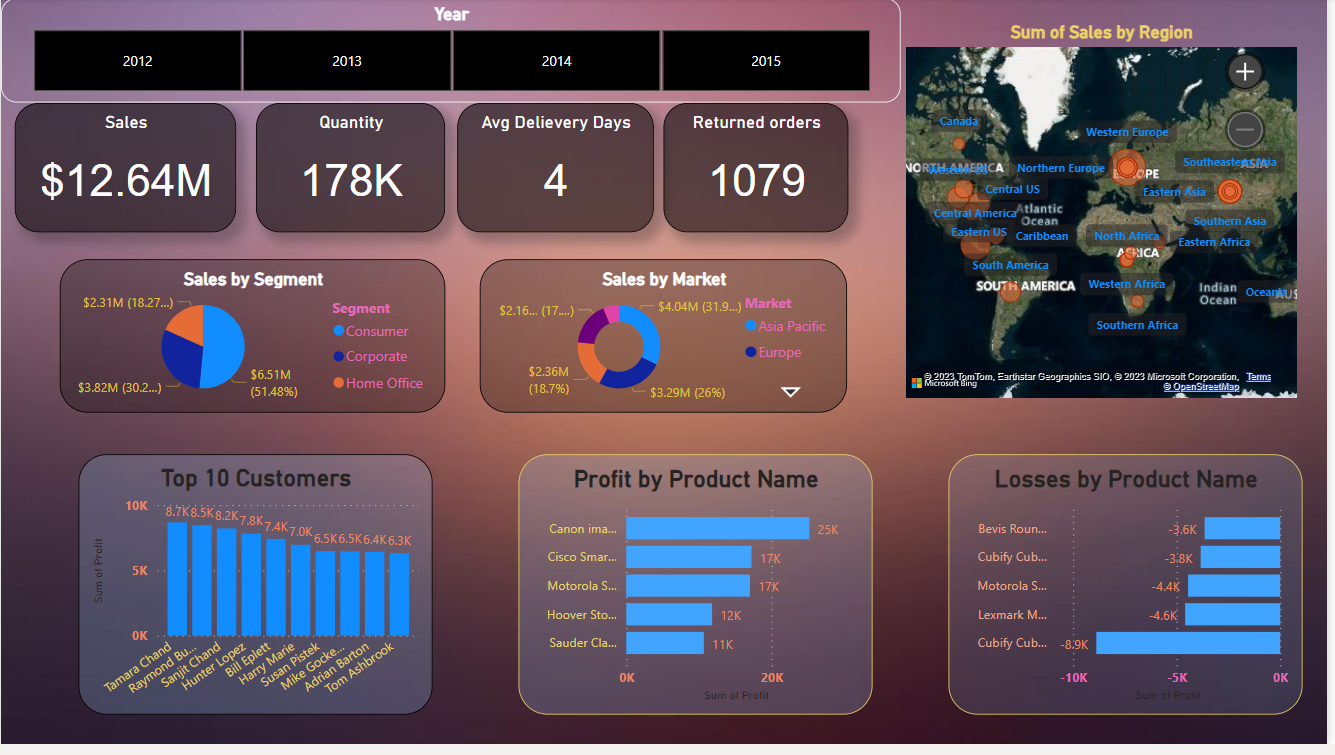

The page's visual inventory and layout, read from the dashboard file:
{"tool":"powerbi","page":{"name":"Page 1","canvas":[1280,720],"ordinal":0},"visuals":[{"type":"card","title":"Sales","fields":{"Values":["Orders.Sales"]},"box":[13.4,100.8,213.6,125],"z":0},{"type":"card","title":"Avg Delievery Days","fields":{"Values":["Orders.Delievery Days"]},"box":[440.7,100.8,189.5,125],"z":1000},{"type":"card","title":"Quantity","fields":{"Values":["Orders.Quantity"]},"box":[245.9,100.8,182.7,125],"z":2000},{"type":"slicer","title":"Year","fields":{"Values":["Orders.year"]},"box":[0,0,868,100.8],"z":3000},{"type":"card","title":"Returned orders","fields":{"Values":["Returns.Returned orders"]},"box":[639.6,100.8,178.7,125],"z":4000},{"type":"map","fields":{"Size":["Orders.Sales"],"Category":["Orders.Region"]},"box":[868,22.8,387,368.2],"z":5000},{"type":"clusteredBarChart","title":"Profit by Product Name","fields":{"Y":["Orders.Profit"],"Category":["Orders.Product Name"]},"box":[499.9,440.7,341.3,251.3],"z":6000},{"type":"clusteredBarChart","title":"Losses by Product Name","fields":{"Y":["Orders.Profit"],"Category":["Orders.Product Name"]},"box":[913.7,440.7,341.3,251.3],"z":7000},{"type":"pieChart","title":" Sales by Segment","fields":{"Category":["Orders.Segment"],"Y":["Orders.Sales"]},"box":[56.4,252.6,372.2,147.8],"z":8000},{"type":"donutChart","title":"Sales by Market","fields":{"Y":["Orders.Sales"],"Category":["Orders.Market"]},"box":[462.2,252.6,354.7,147.8],"z":9000},{"type":"columnChart","title":"Top 10 Customers ","fields":{"Category":["Orders.Customer Name"],"Y":["Orders.Profit"]},"box":[75.2,440.7,341.3,251.3],"z":10000}]}

Visuals, with their boxes in screenshot pixels (x1, y1, x2, y2), scaled from the page's 1280x720 canvas onto the 1335x755 screenshot:
"Sales" card: left=14, top=106, right=237, bottom=237
"Avg Delievery Days" card: left=460, top=106, right=657, bottom=237
"Quantity" card: left=256, top=106, right=447, bottom=237
"Year" slicer: left=0, top=0, right=905, bottom=106
"Returned orders" card: left=667, top=106, right=853, bottom=237
map - Orders.Sales x Orders.Region: left=905, top=24, right=1309, bottom=410
"Profit by Product Name" clusteredBarChart: left=521, top=462, right=877, bottom=726
"Losses by Product Name" clusteredBarChart: left=953, top=462, right=1309, bottom=726
" Sales by Segment" pieChart: left=59, top=265, right=447, bottom=420
"Sales by Market" donutChart: left=482, top=265, right=852, bottom=420
"Top 10 Customers " columnChart: left=78, top=462, right=434, bottom=726
